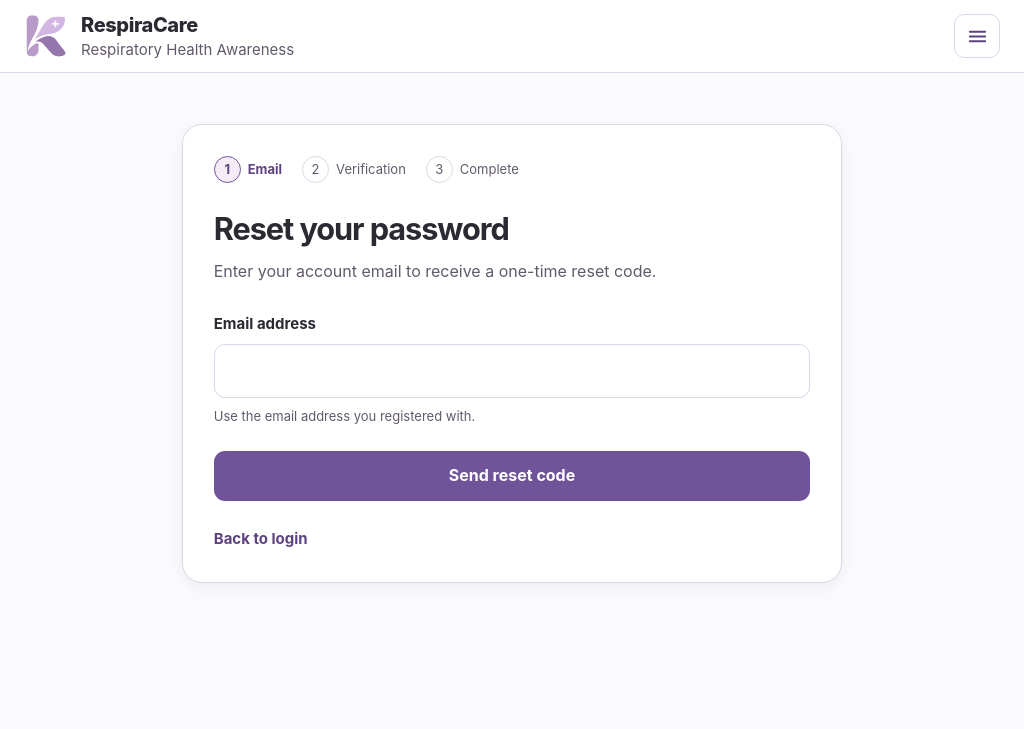
Test: forgotten-password recovery › explains the expired_code response without logging in
The image size is (1024, 729).
Type "PERSON@EXAMPLE.COM" into the field labelled "Email address". click: (512, 371)
box: left=214, top=344, right=810, bottom=398
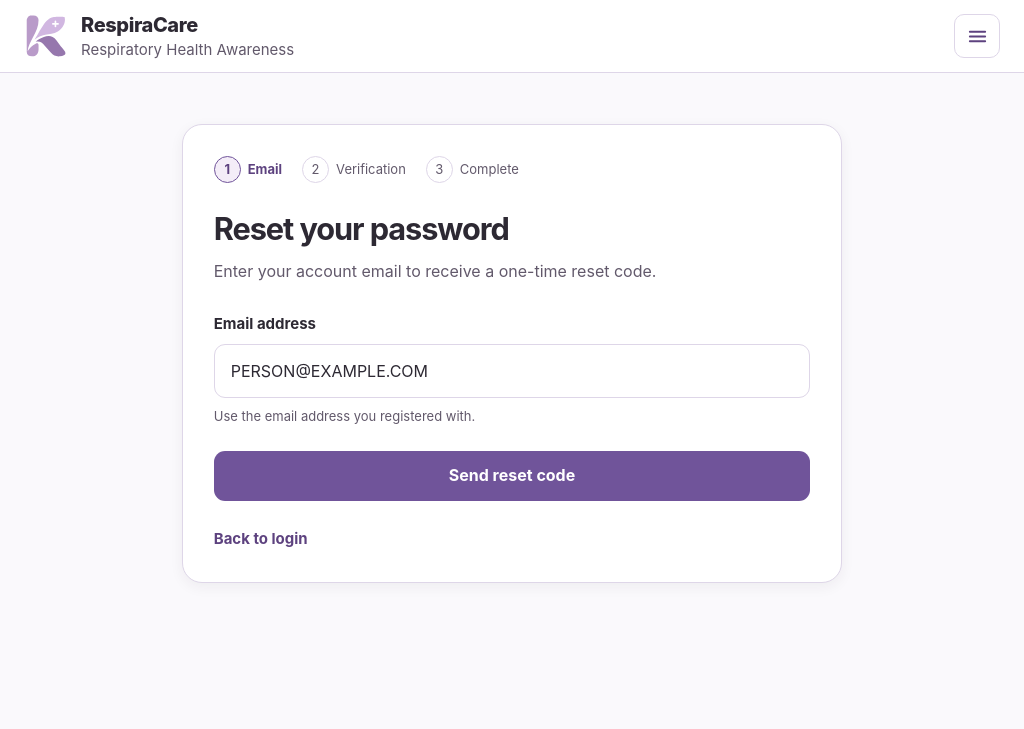
Click the button "Send reset code". click: (512, 476)
box: left=214, top=451, right=810, bottom=501
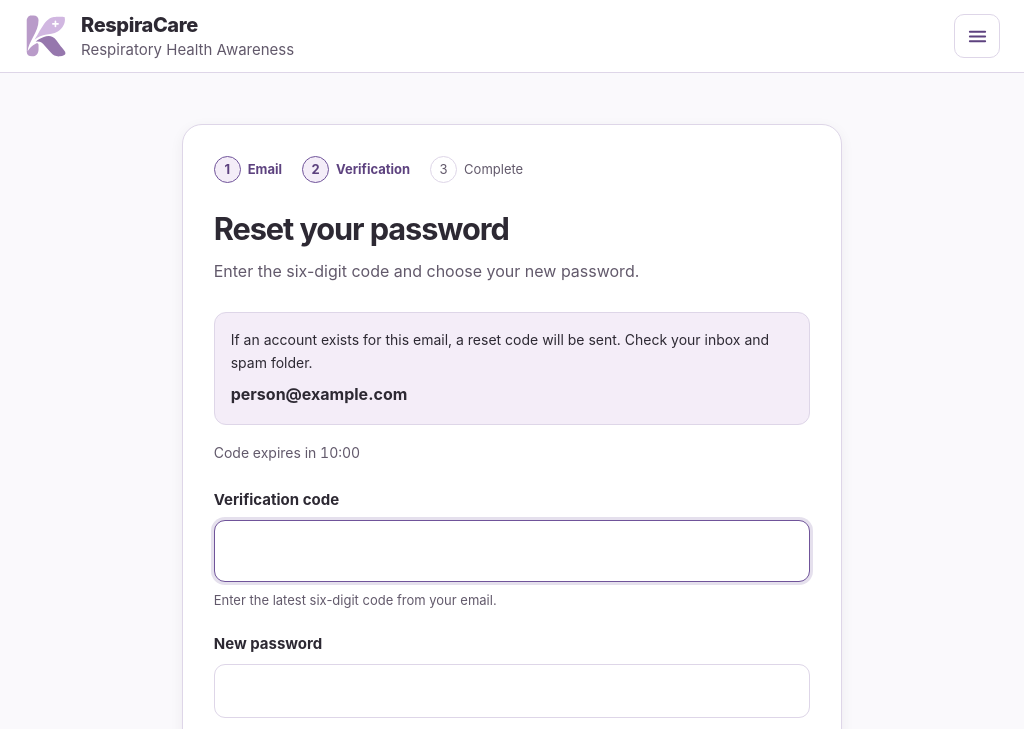
Expected: the field labelled "Verification code" is shown
Type "012345" into the field labelled "Verification code". click: (512, 551)
box: left=214, top=520, right=810, bottom=582
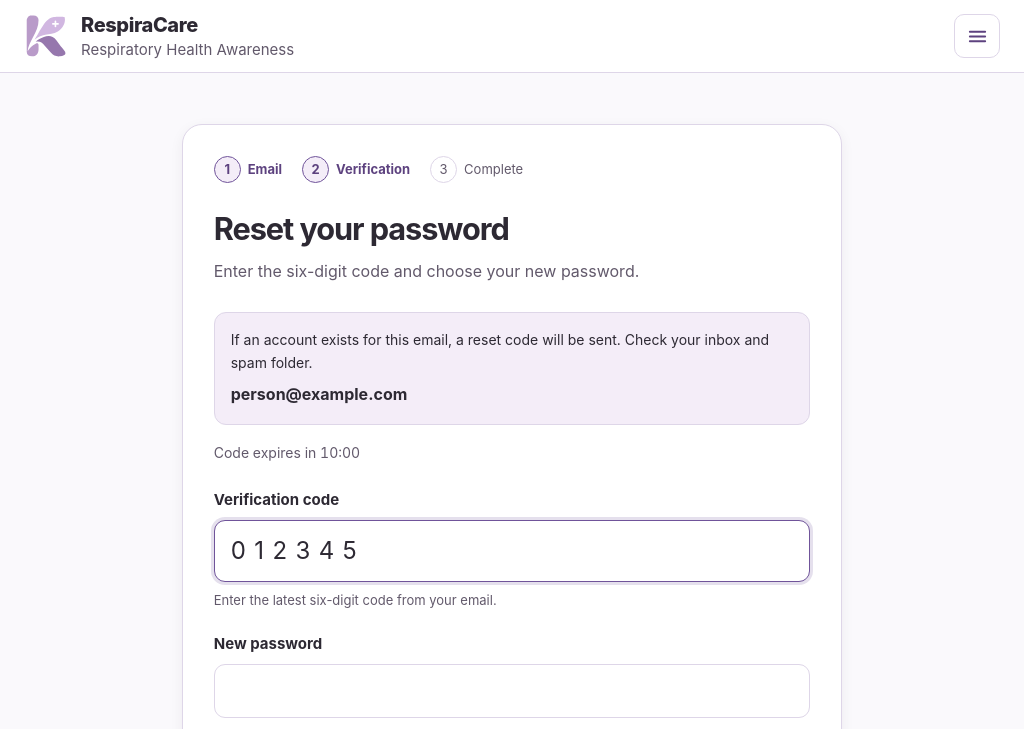
Type "SyntheticNewPassword123!" into the password field labelled "New password". click: (512, 691)
box: left=214, top=664, right=810, bottom=718
(page scrolled)
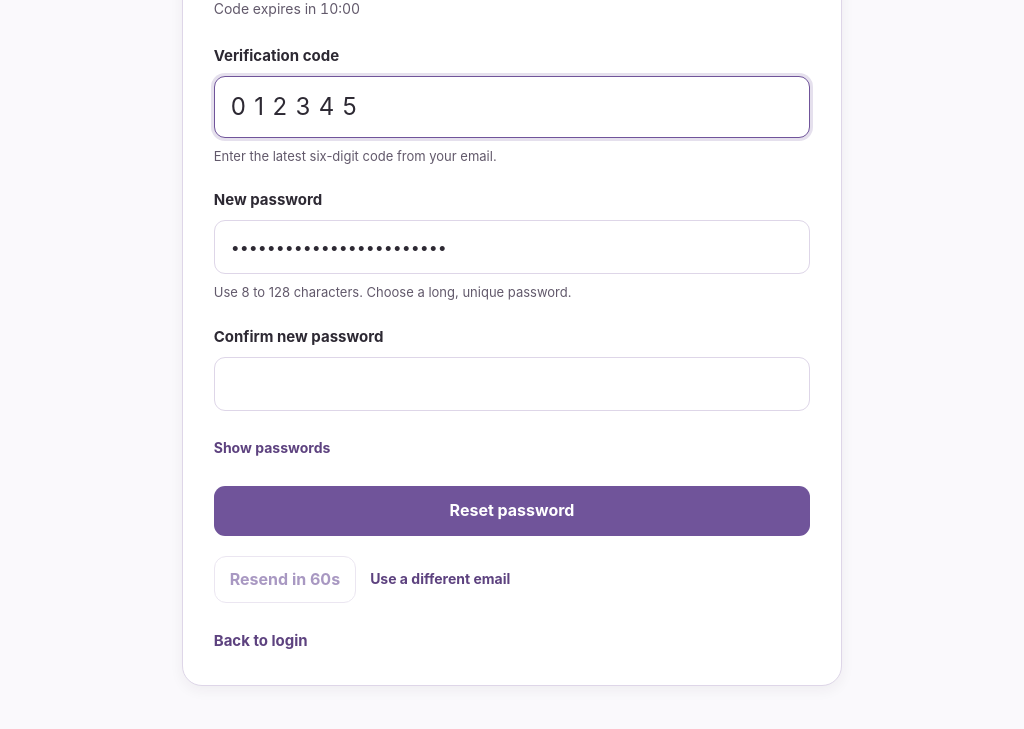
Type "SyntheticNewPassword123!" into the password field labelled "Confirm new password". click: (512, 384)
box: left=214, top=357, right=810, bottom=411
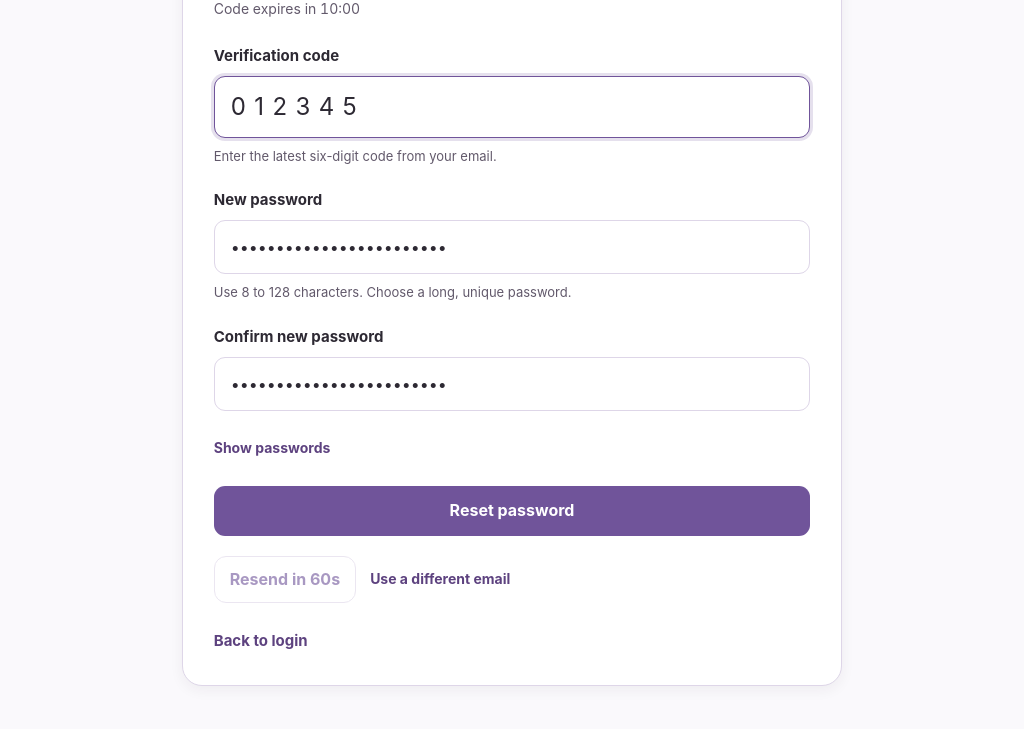
Click the button "Reset password". click: (512, 511)
box: left=214, top=486, right=810, bottom=536
(page scrolled)
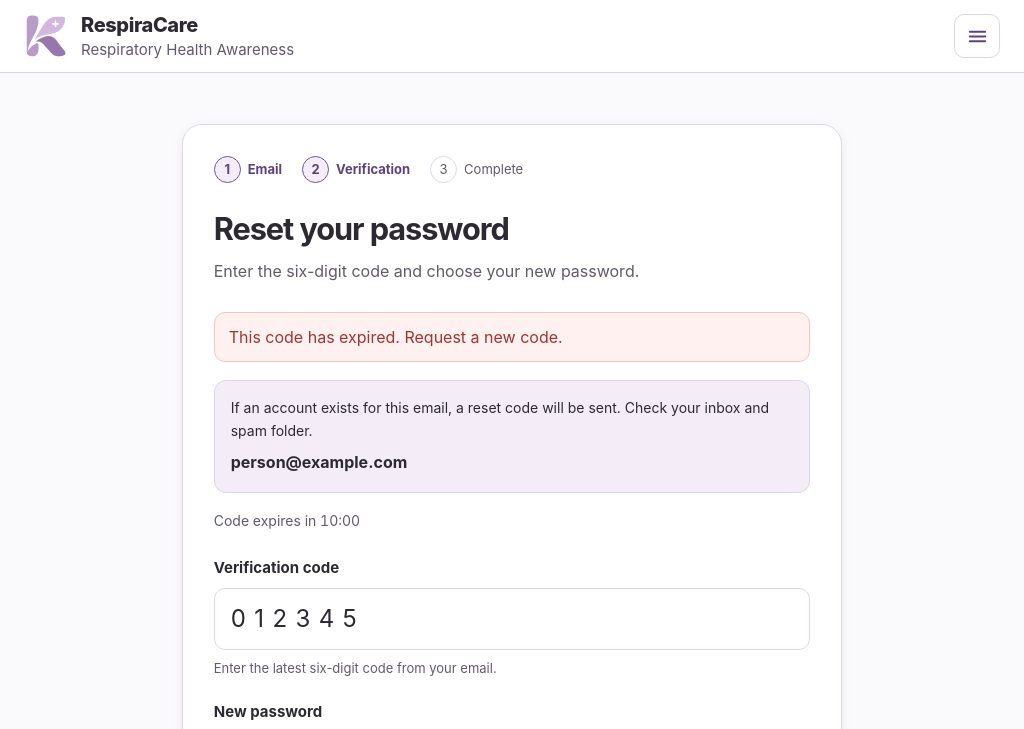
Expected: the message "This code has expired. Request a new code." is shown, left=214, top=312, right=810, bottom=362
